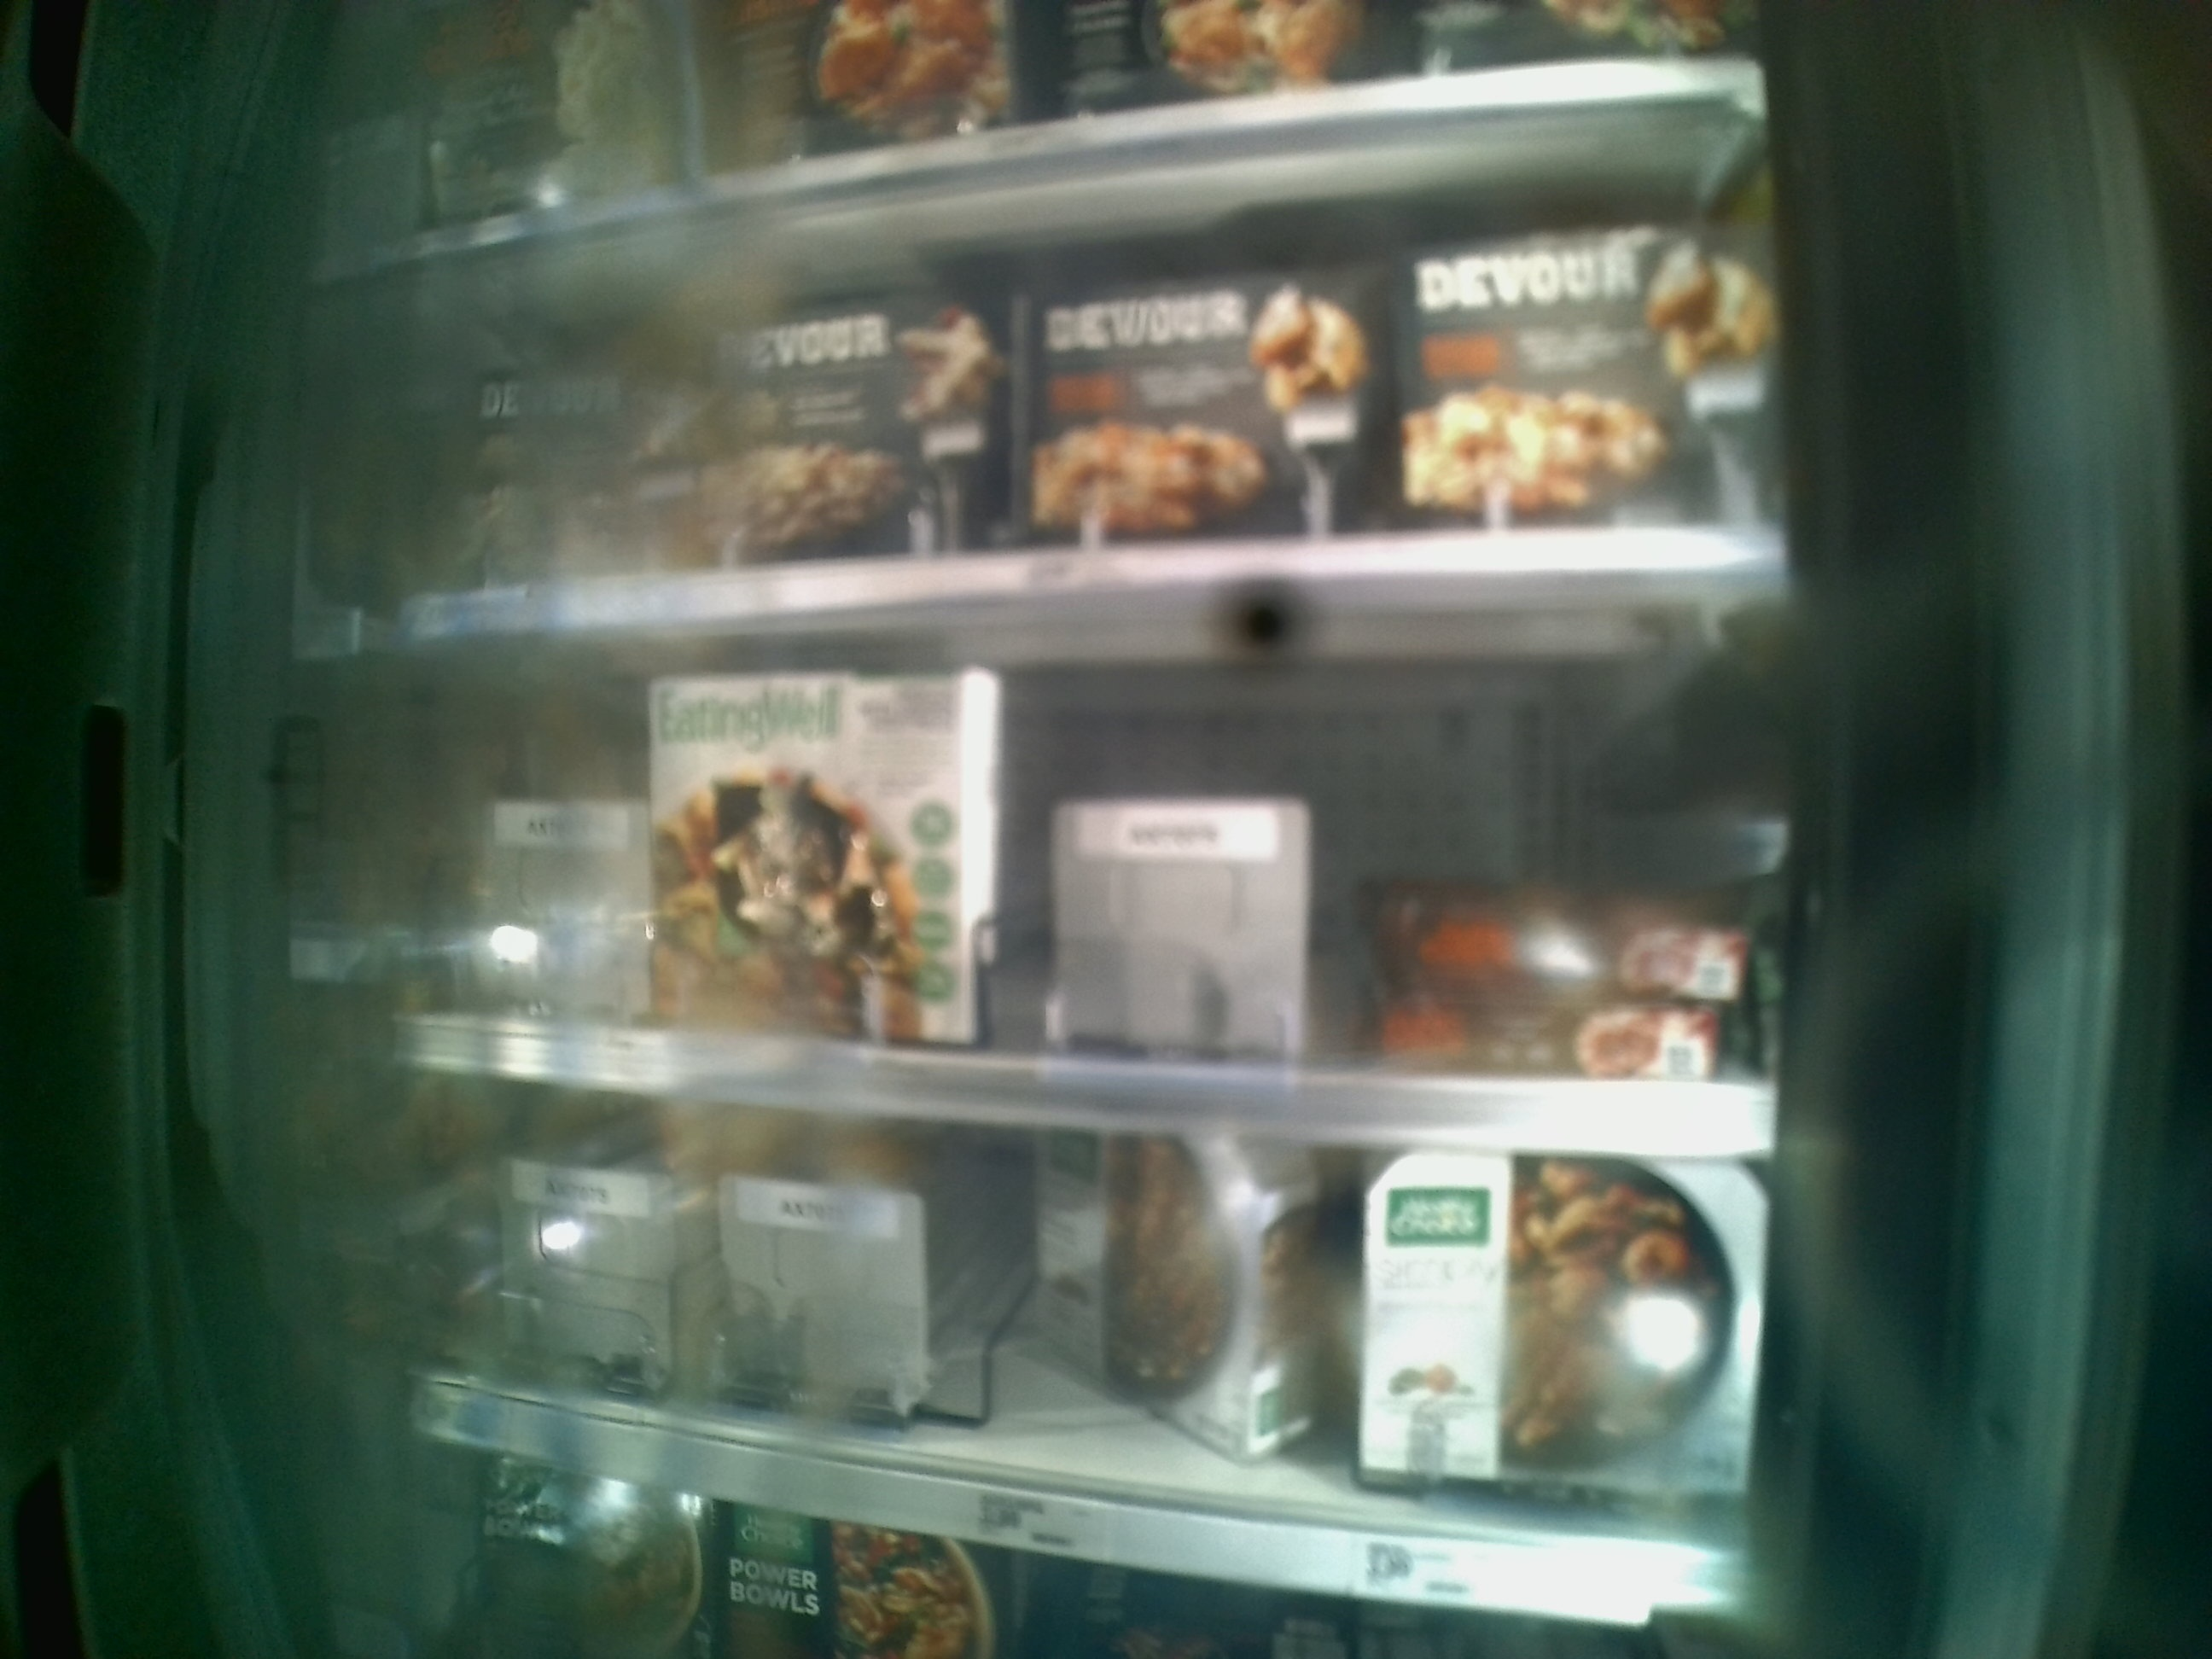shelf: (320, 591, 1782, 1166)
